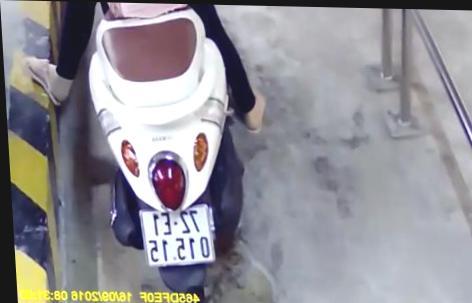License_Plate: (135, 201, 221, 273)
